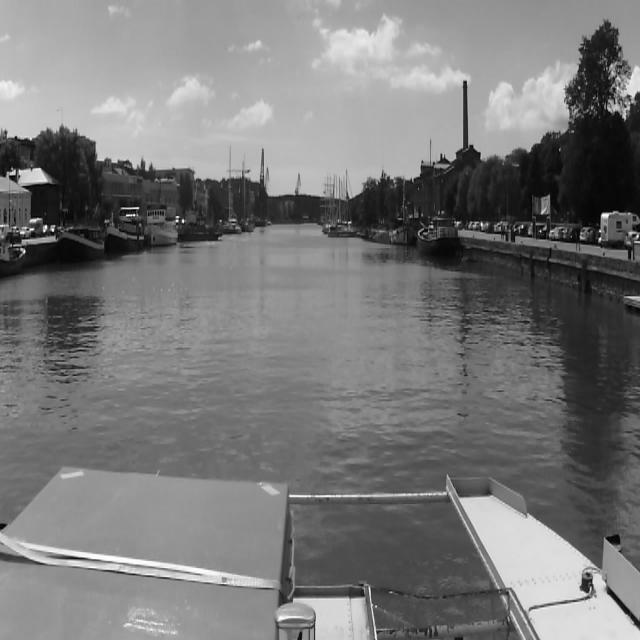ship: (417, 214, 461, 260), (56, 223, 105, 263), (387, 172, 413, 246), (108, 213, 146, 255), (169, 216, 227, 243), (145, 201, 178, 247), (0, 234, 26, 279)
